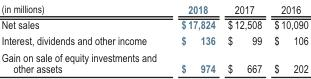table: (0, 0, 307, 75)
table column: (0, 0, 168, 75), (168, 0, 220, 75), (220, 0, 267, 75), (267, 0, 307, 75)
table column header: (0, 0, 307, 16)
table row: (0, 48, 307, 75), (0, 31, 307, 48), (0, 0, 307, 16), (0, 16, 307, 31)
